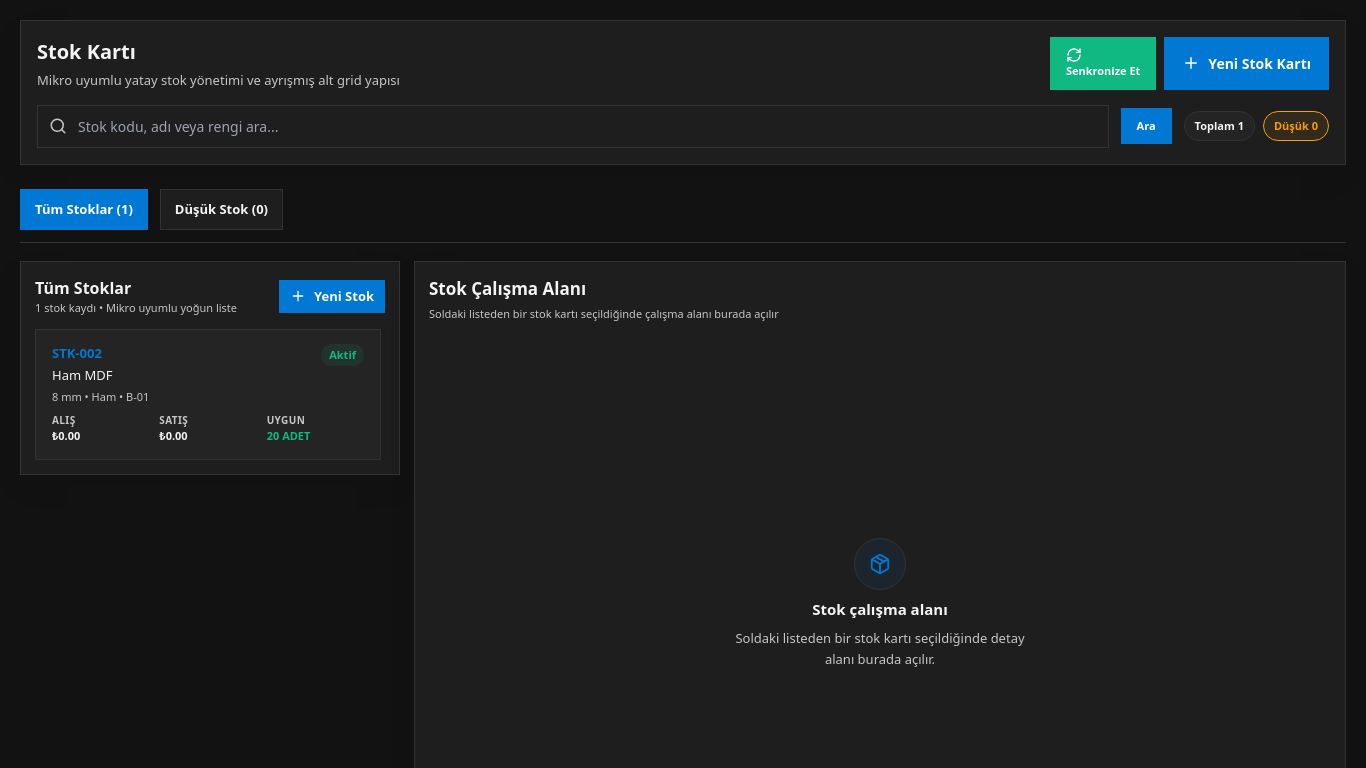
Test case: StockCardComponent › stok kartinda sifir fiyatlari gizlemez
This screenshot has width=1366, height=768.
Click the text "STK-002": (77, 352) [52,344,102,362]
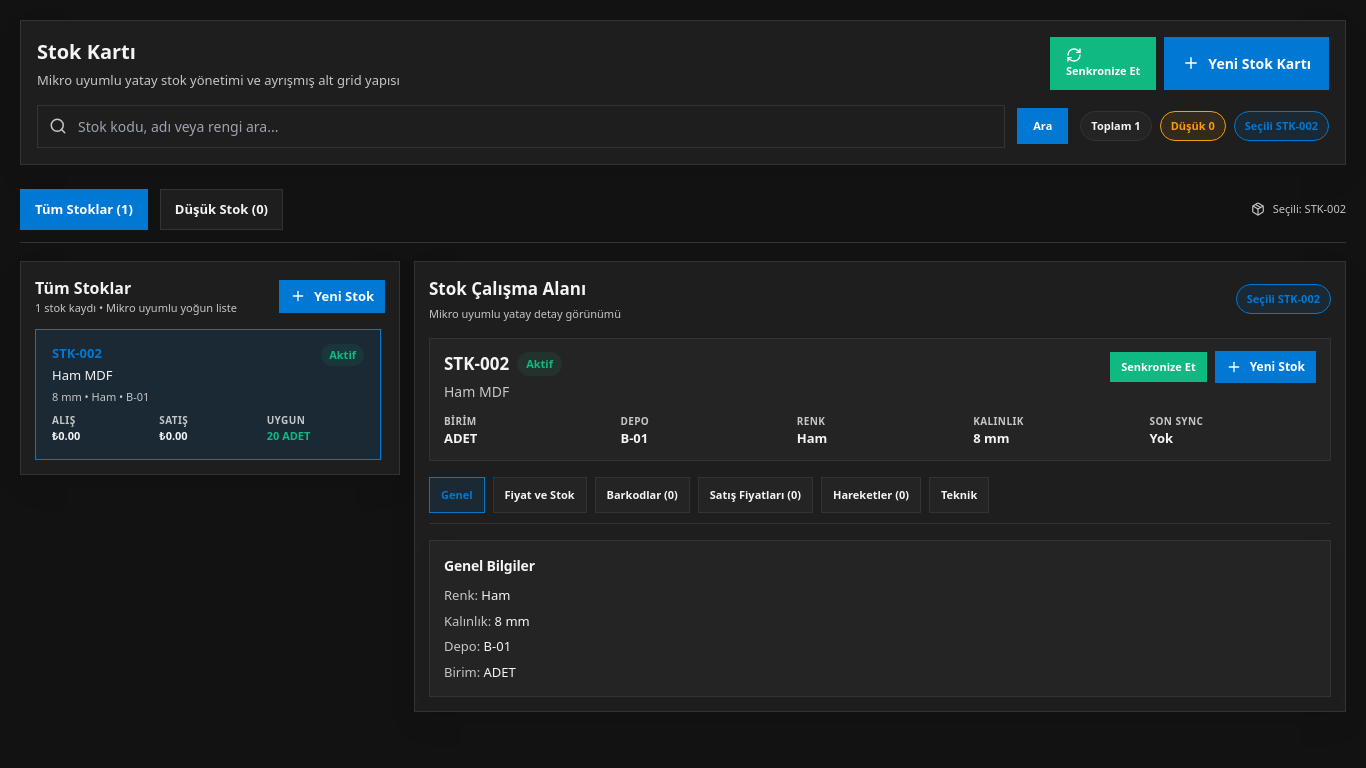
Click the button "Fiyat ve Stok": (540, 495) [493,477,587,513]
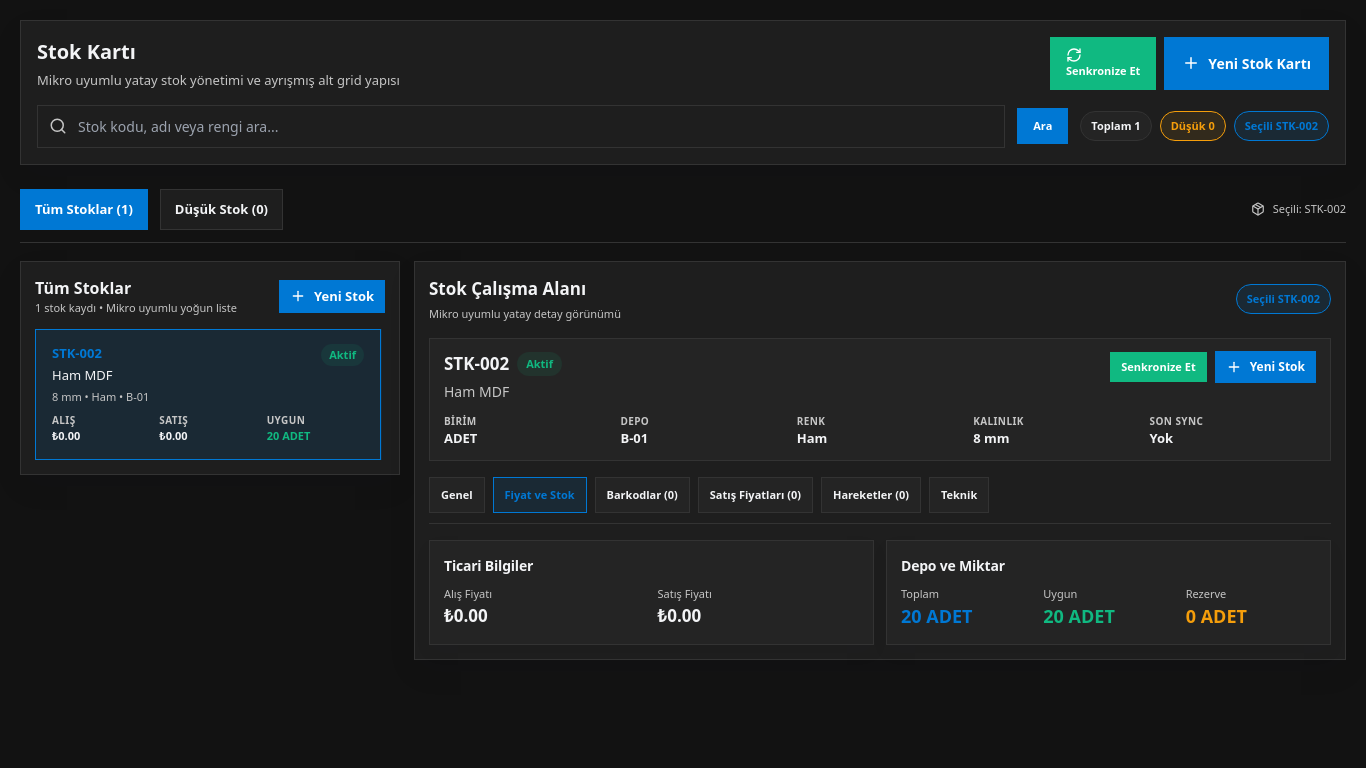
Expected: the text "Satış Fiyatı" is shown, [658,586,712,601]
Expected: the text "Alış Fiyatı" is shown, [444,586,492,601]
